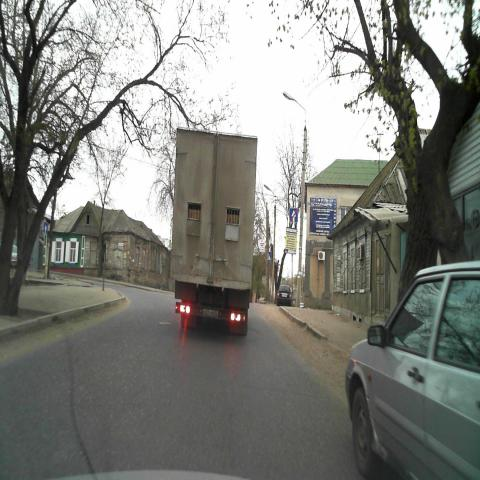5_6: (290, 208, 299, 222)
